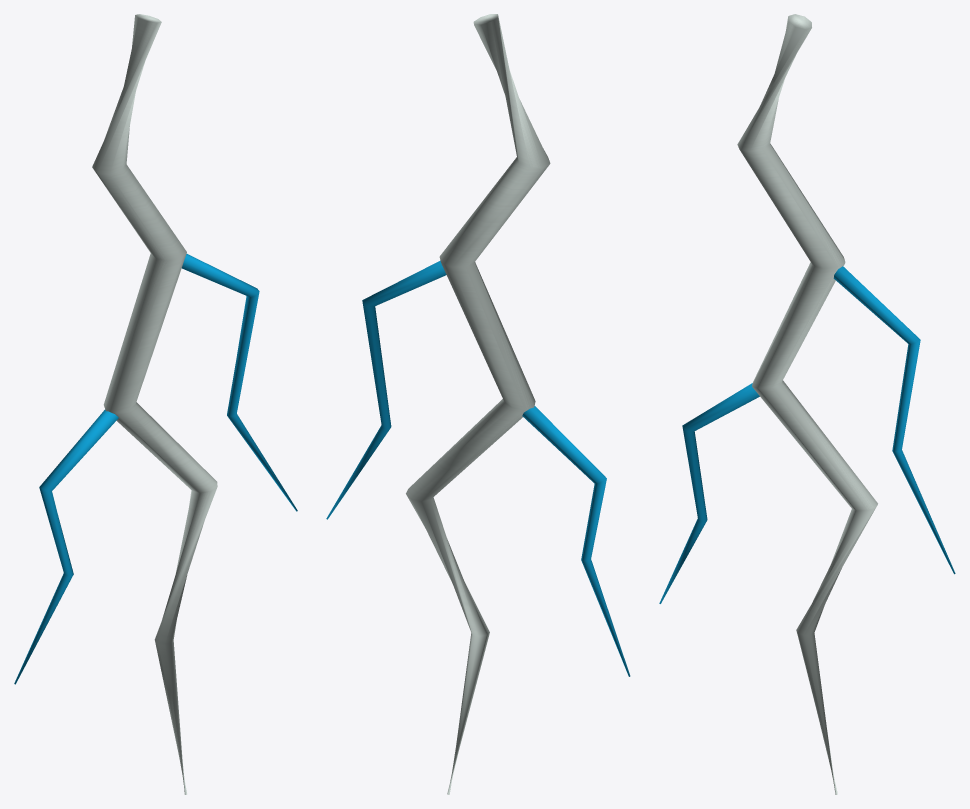
File: SM_thunderstorm_bolt.fbx
3 views of the same model, side by side, from view 1: azimuth 30°, elevation 25°; view 2: azimuth 150°, elevation 25°; view 3: azimuth 330°, elevation 25° (orthographic). The views are drawn at different scales.
Visible parts, largest first — view 1: SM_thunderstorm_bolt; view 2: SM_thunderstorm_bolt; view 3: SM_thunderstorm_bolt.
Boxes of the visible parts, x1,y1,x2,y2 form: SM_thunderstorm_bolt: (14, 14, 297, 794); SM_thunderstorm_bolt: (326, 14, 630, 794); SM_thunderstorm_bolt: (659, 14, 955, 794).
Bounding box in the file's own units: 0.3917 × 0.0599 × 1.01.
